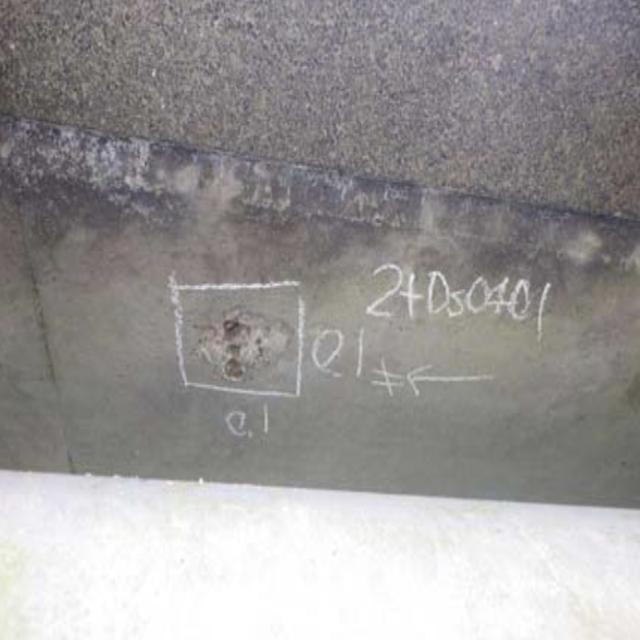spalling: (175, 290, 308, 391)
